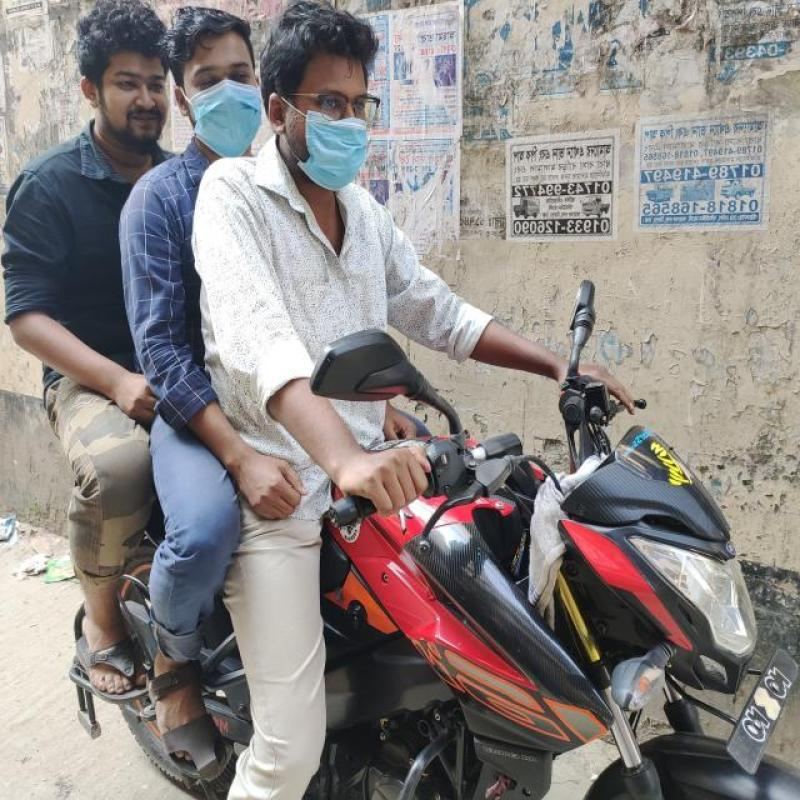nohelmet: (258, 0, 392, 218), (70, 11, 168, 159), (198, 5, 262, 158)
